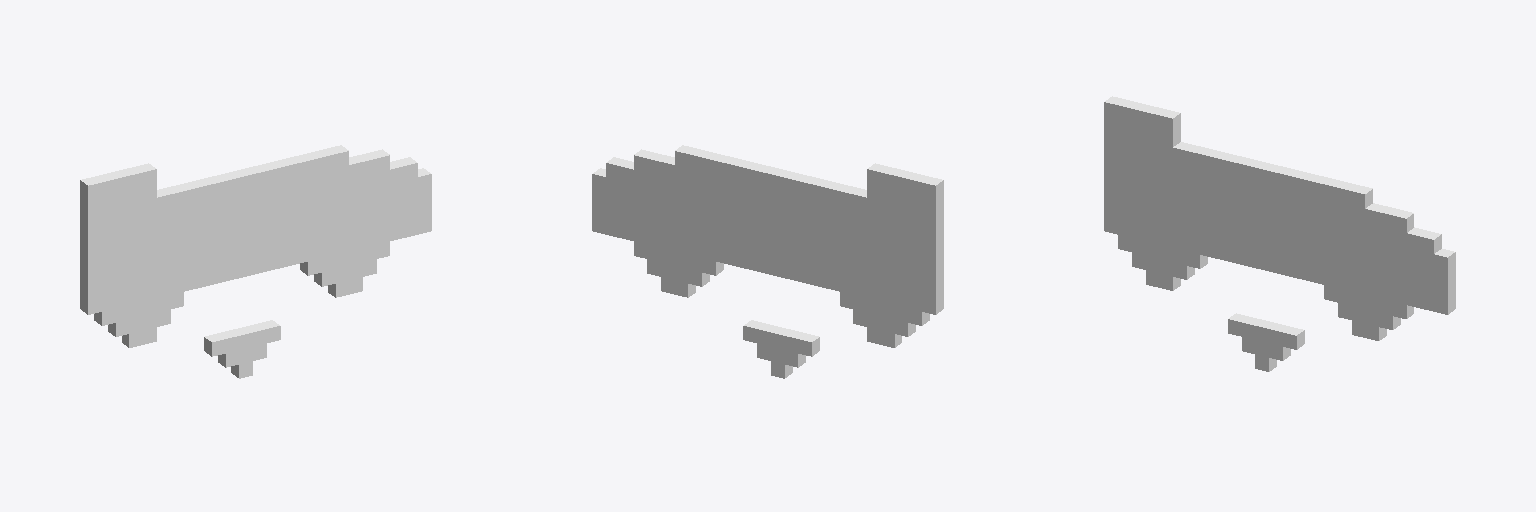
The model's file is RadialLoading.obj.
3 renders of one model, left to right at view 1: azimuth 30°, elevation 25°; view 2: azimuth 150°, elevation 25°; view 3: azimuth 330°, elevation 25°, orthographic.
Parts seen in each view (by area): view 1: object 1; view 2: object 1; view 3: object 1.
Boxes of the visible parts, x1=… form: object 1: x1=80, y1=145, x2=431, y2=378; object 1: x1=592, y1=145, x2=943, y2=378; object 1: x1=1104, y1=96, x2=1455, y2=371.
Bounding box in the file's own units: 2.5 × 1.6 × 0.1.